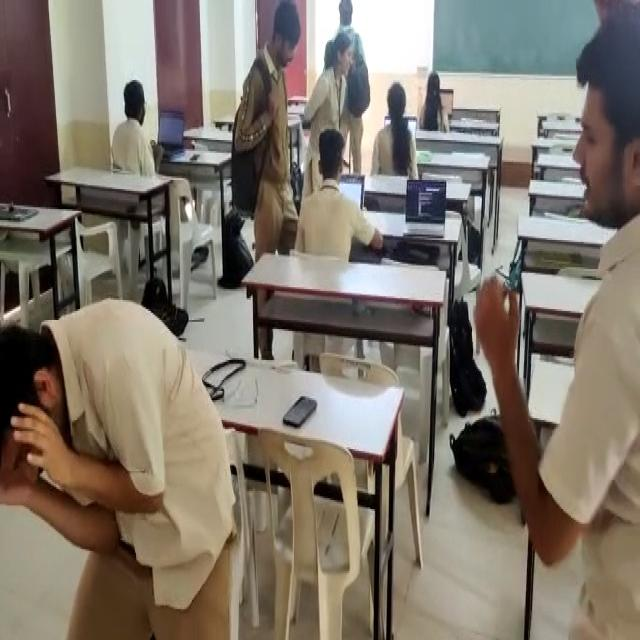fight: (0, 13, 640, 607)
